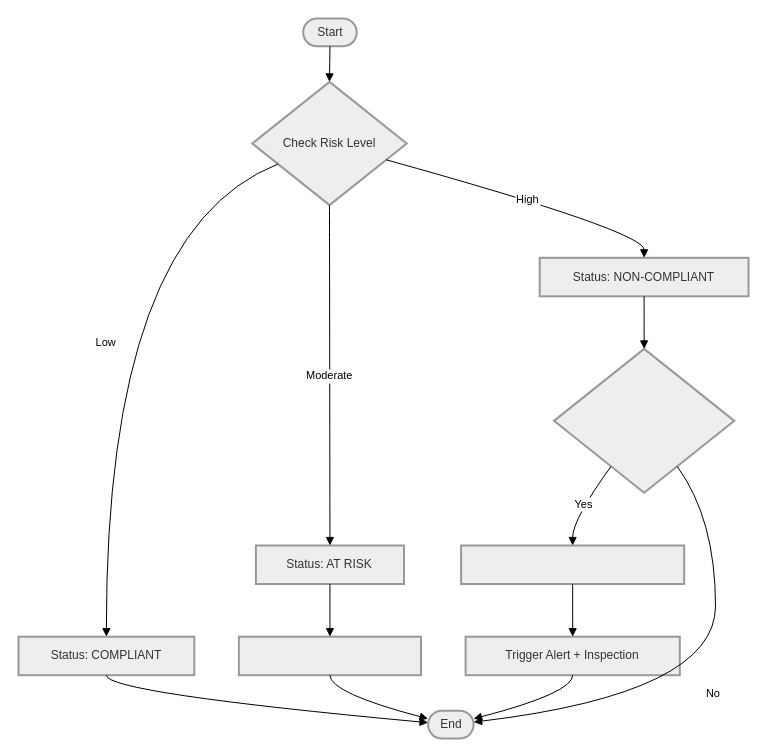
Image size: 766x756. Some labels were removed from this diagram. Here are the shapes that lost their labels. From the top down, the centre of each, then its label:
At point (643, 420): "Repeated Violations?".
At point (572, 564): "Escalation Level: CRITICAL".
At point (329, 655): "Monitoring Required".
